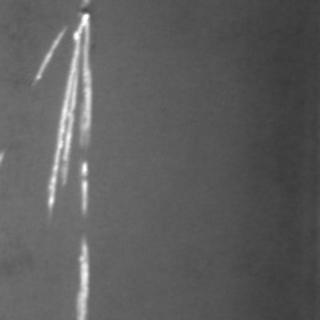scratches: (30, 0, 94, 212), (64, 237, 92, 317)
